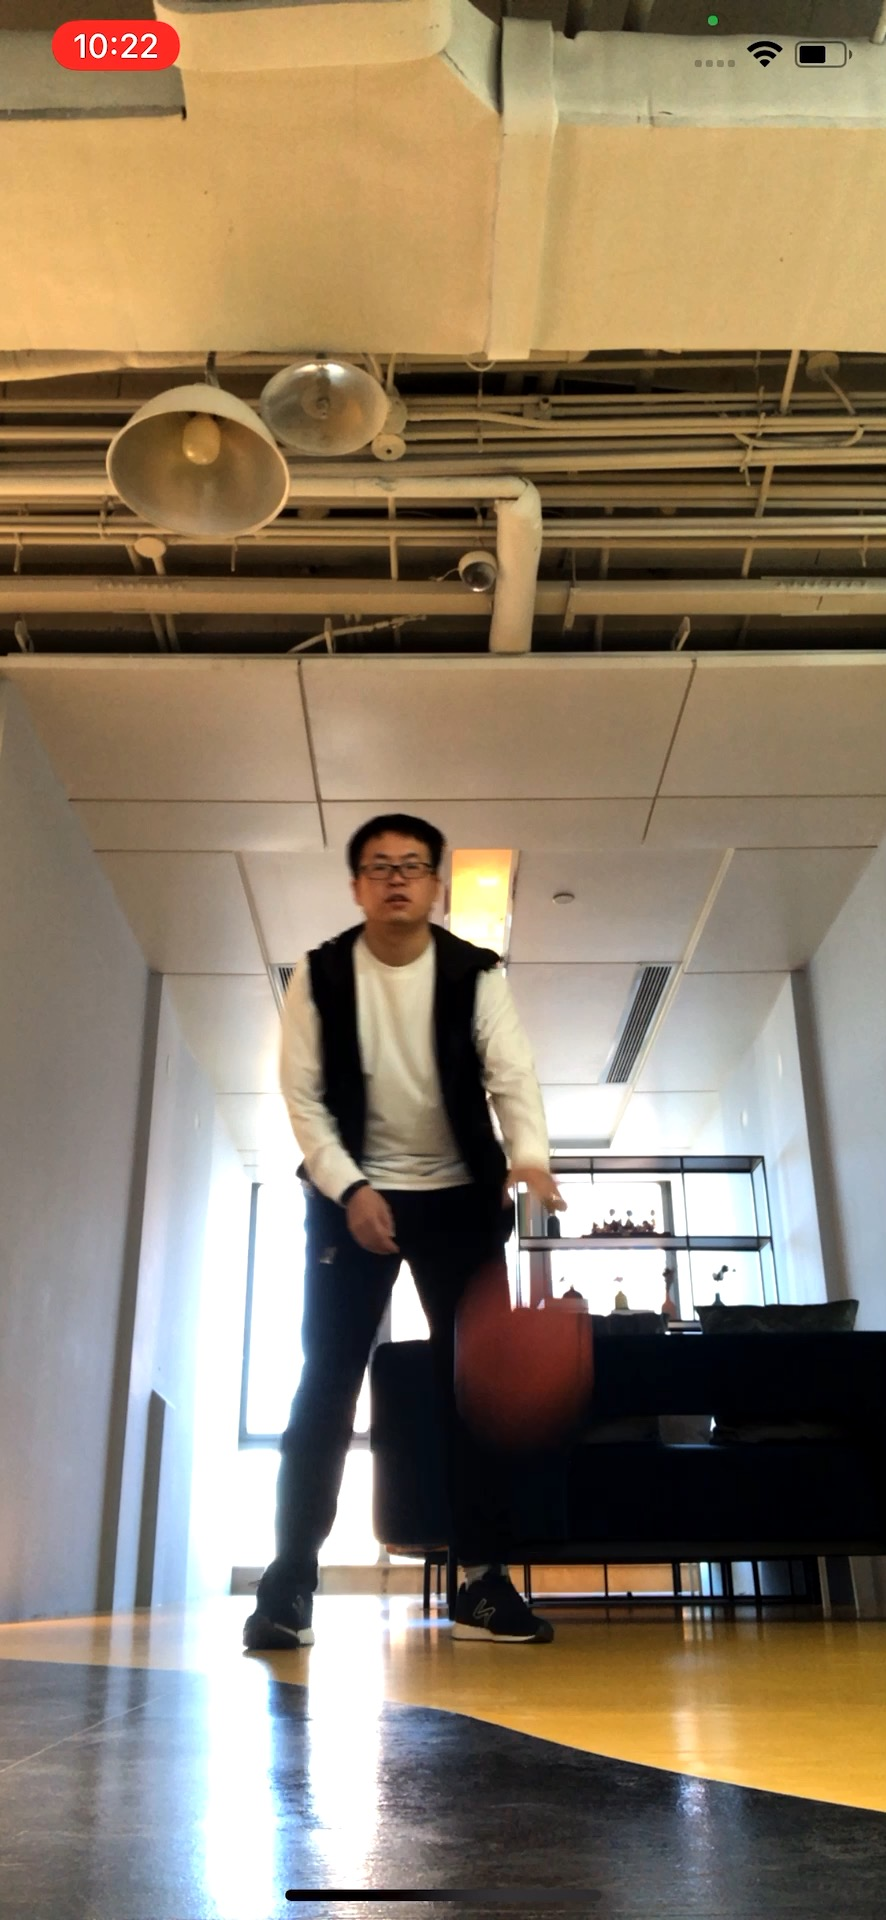ball: (449, 1304, 584, 1412)
